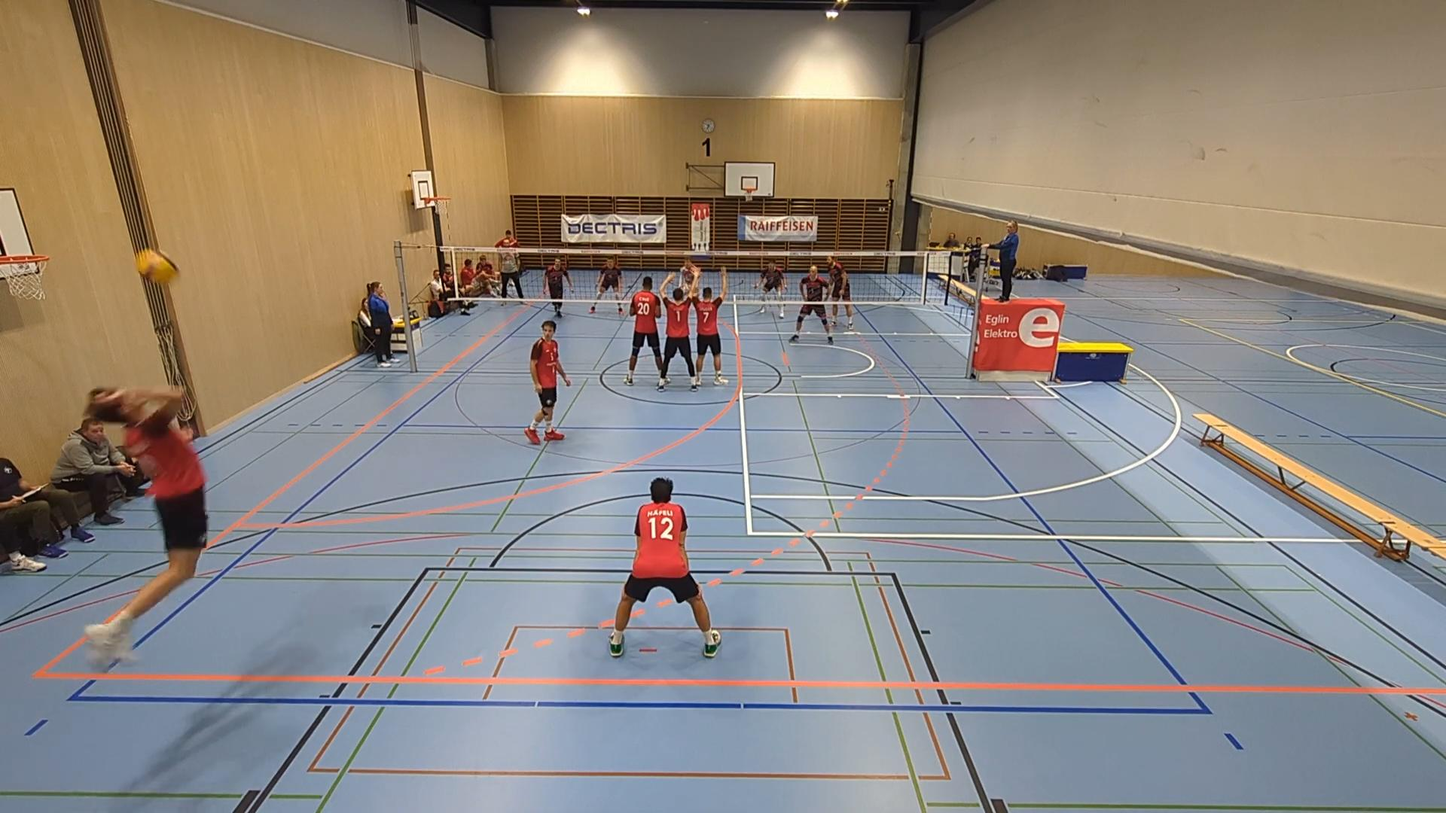Player: (609, 478, 720, 657), (524, 320, 570, 444), (657, 274, 700, 391), (625, 276, 662, 385), (694, 268, 728, 385), (789, 266, 833, 344), (589, 258, 623, 315), (828, 257, 853, 330), (755, 260, 784, 318), (545, 257, 572, 317), (677, 258, 700, 290)
Serve: (82, 382, 208, 669)
ball: (135, 244, 181, 288)
